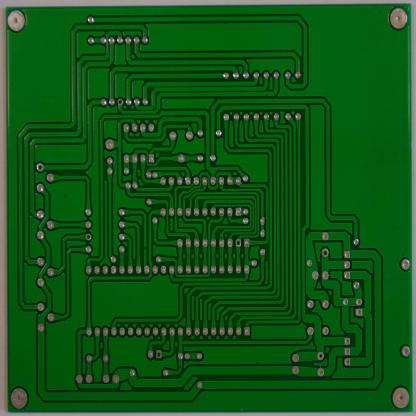missing_hole: (34, 161, 45, 172), (321, 247, 331, 258), (155, 348, 164, 360), (234, 238, 242, 249), (116, 97, 125, 106), (85, 232, 93, 242)
